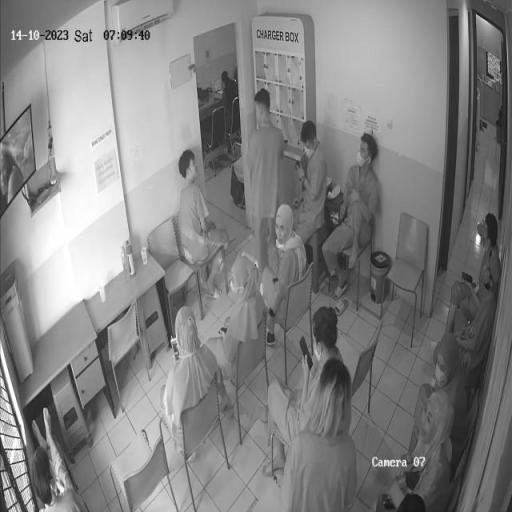person: (259, 308, 345, 477), (284, 358, 359, 512), (323, 134, 380, 300), (432, 213, 500, 351), (207, 257, 265, 416), (160, 306, 221, 451), (431, 256, 502, 364), (179, 151, 230, 301), (392, 391, 455, 512), (416, 333, 469, 476), (248, 89, 284, 286), (31, 408, 90, 512), (265, 206, 308, 346), (292, 121, 328, 251), (223, 71, 239, 146), (232, 155, 247, 208)
